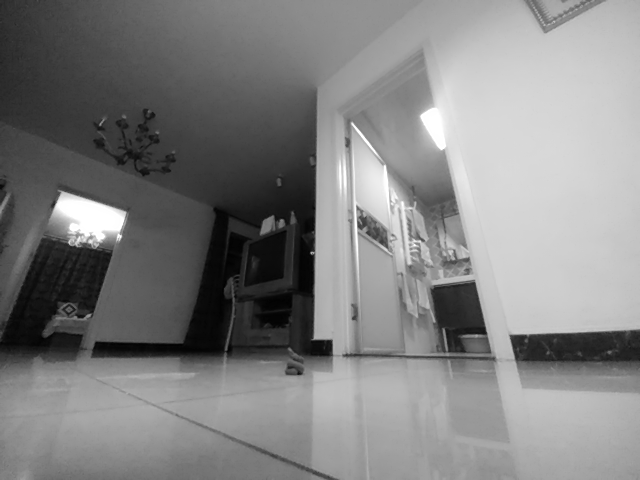curtain: (181, 207, 232, 355), (6, 239, 61, 346)
pet feces: (284, 347, 305, 377)
